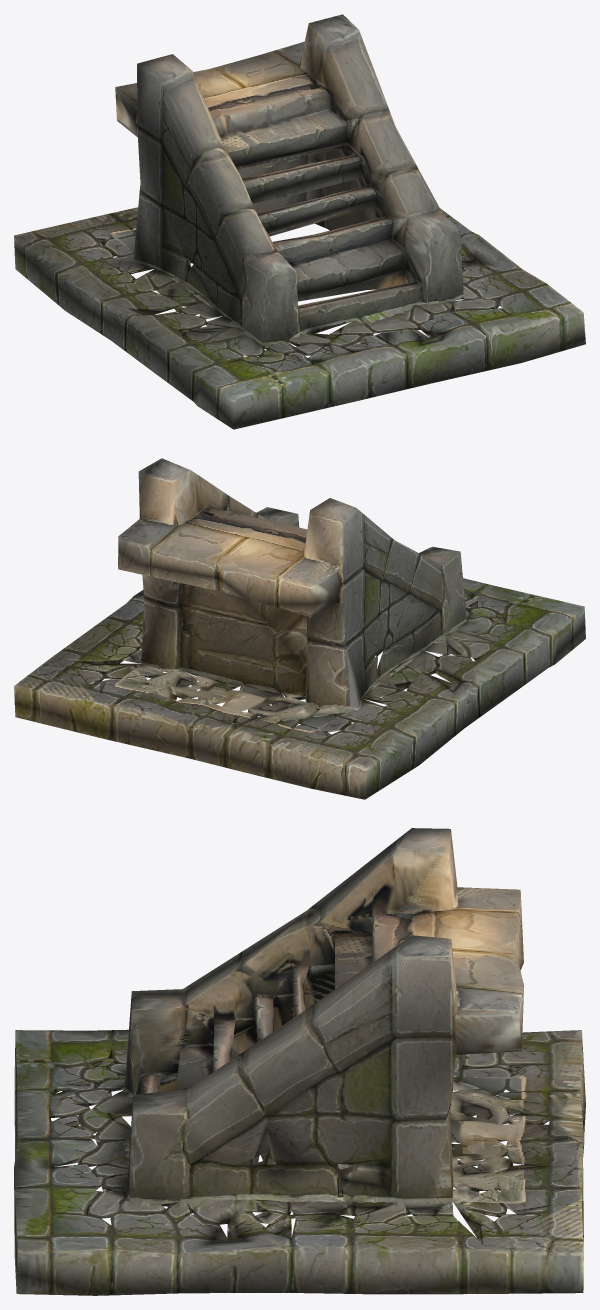
File: Tile_StairsUp.fbx
3 renders of one model, top to bottom at view 1: azimuth 30°, elevation 25°; view 2: azimuth 150°, elevation 25°; view 3: azimuth 270°, elevation 25°, orthographic. The views are drawn at different scales.
Parts seen in each view (by area): view 1: texture_mapping; view 2: texture_mapping; view 3: texture_mapping.
Part boxes in pixels (left/top/right/bottom): texture_mapping: left=14, top=14, right=585, bottom=429; texture_mapping: left=14, top=458, right=585, bottom=799; texture_mapping: left=14, top=828, right=585, bottom=1295.
Size of the model in its own units: 0.914 by 0.9869 by 0.5684.
Materials: 1 (1 with a texture image).
